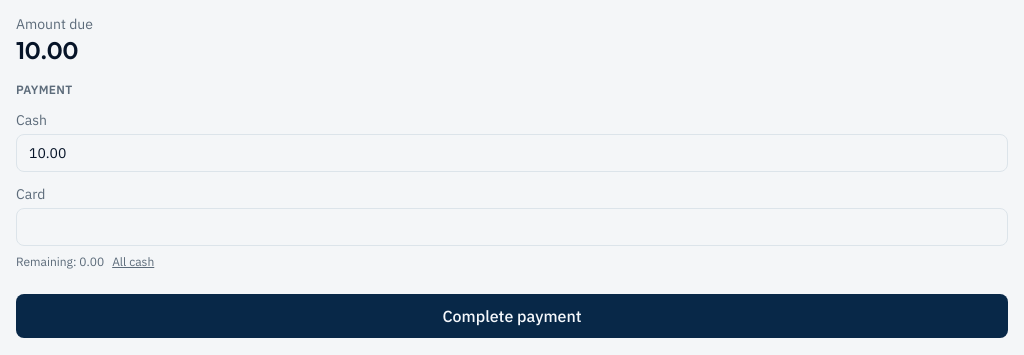
Test: PaymentPanel offline queue wiring › queues offline cash sale, clears cart, skips receipt/print
Click the button "Complete payment".
click(512, 316)  # box [16,294,1008,338]
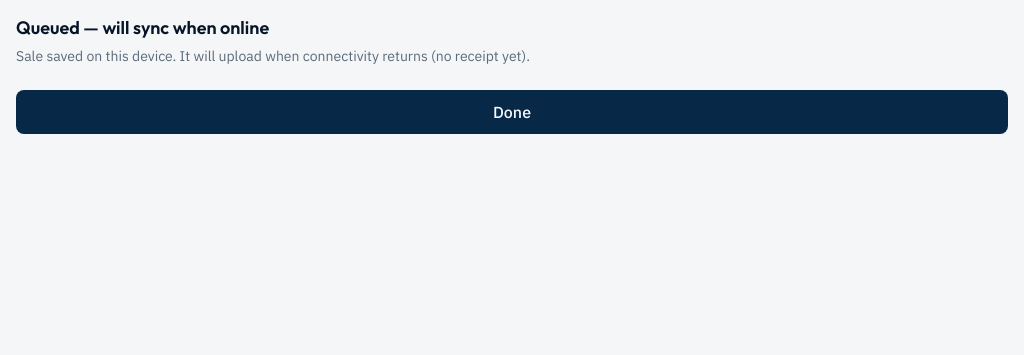
Expected: the text "Queued — will sync when online" is shown, [16,16,269,39]
